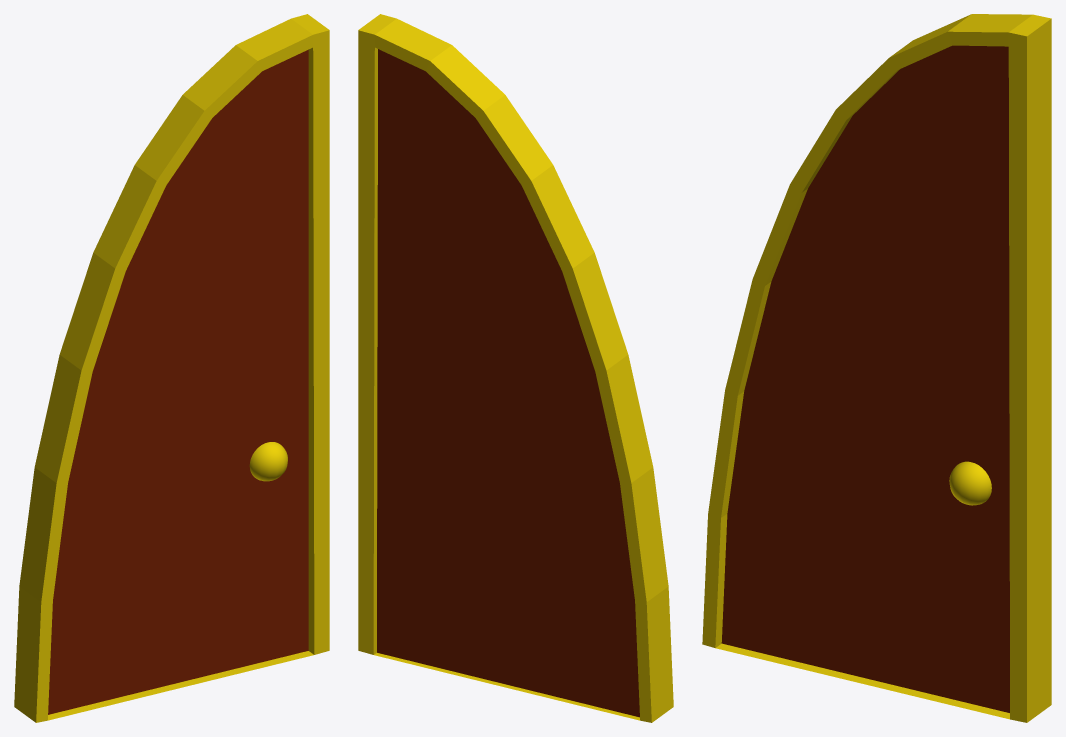
The model's file is Puerta_Izq.glb.
3 renders of one model, left to right at view 1: azimuth 30°, elevation 25°; view 2: azimuth 150°, elevation 25°; view 3: azimuth 330°, elevation 25°, orthographic. The views are drawn at different scales.
Visible parts, largest first — view 1: Sphere; view 2: Sphere; view 3: Sphere.
Part boxes in pixels (x1,y1,x2,y2): Sphere: (14, 14, 329, 722); Sphere: (358, 14, 673, 722); Sphere: (702, 14, 1051, 722).
Bounding box in the file's own units: 0.8179 × 1.66 × 0.1243.
